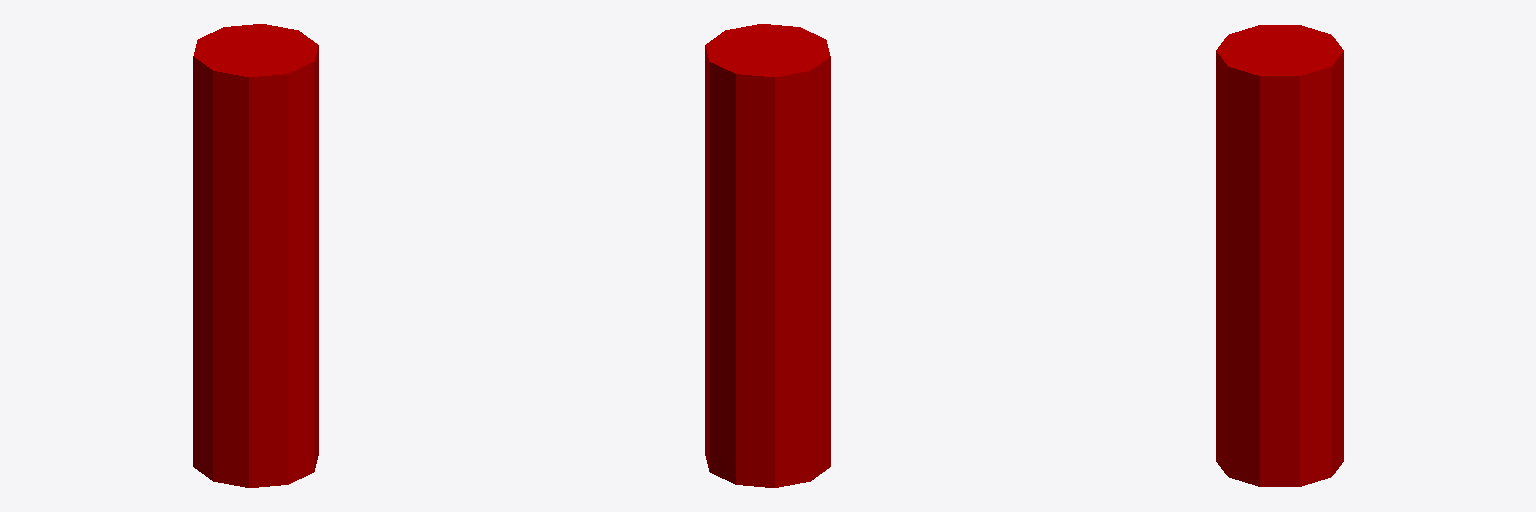
Rendered from original-23.obj.
3 views of the same model, side by side, from view 1: azimuth 30°, elevation 25°; view 2: azimuth 150°, elevation 25°; view 3: azimuth 270°, elevation 25° (orthographic).
Parts seen in each view (by area): view 1: Group1/mesh8/mesh8-geometry#mesh8-geometry; view 2: Group1/mesh8/mesh8-geometry#mesh8-geometry; view 3: Group1/mesh8/mesh8-geometry#mesh8-geometry.
Part boxes in pixels (x1,y1,x2,y2): Group1/mesh8/mesh8-geometry#mesh8-geometry: (193,24,318,487); Group1/mesh8/mesh8-geometry#mesh8-geometry: (705,24,830,487); Group1/mesh8/mesh8-geometry#mesh8-geometry: (1216,25,1343,486).
Size of the model in its own units: 0.1121 by 0.4172 by 0.1179.